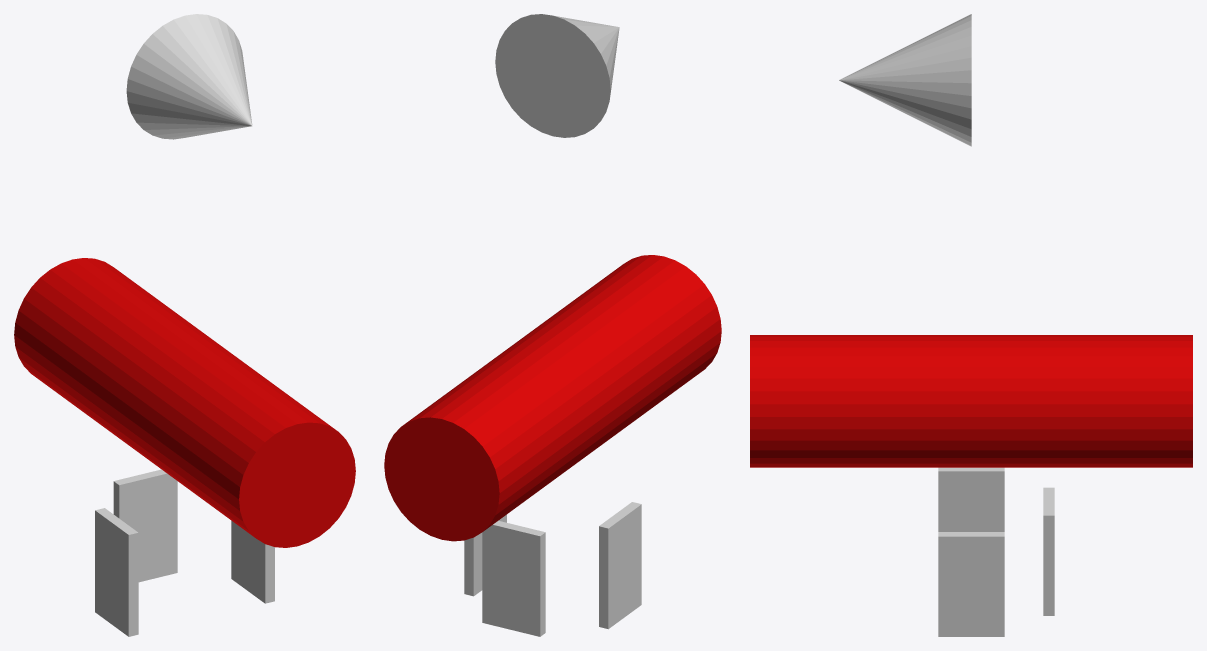
The model's file is fusee_simple.glb.
The picture shows the model from 3 angles, left to right: view 1: azimuth 30°, elevation 25°; view 2: azimuth 150°, elevation 25°; view 3: azimuth 270°, elevation 25°; orthographic projection.
Parts seen in each view (by area): view 1: world; view 2: world; view 3: world.
Boxes of the visible parts, x1,y1,x2,y2 form: world: (14, 14, 355, 636); world: (384, 14, 721, 636); world: (750, 14, 1192, 636).
Size of the model in its own units: 0.75 by 2.9 by 2.
